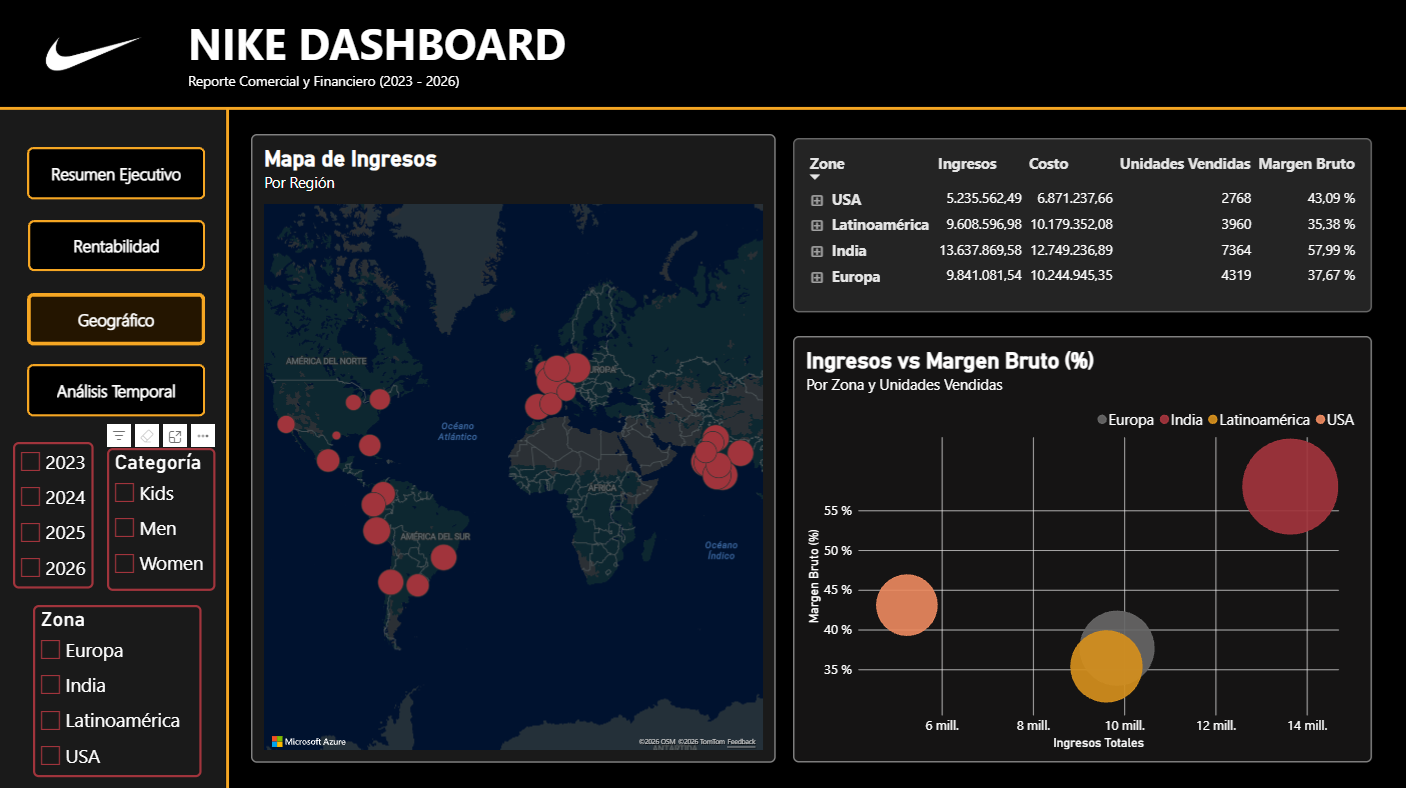

What the dashboard file says about the page in this screenshot:
{"tool":"powerbi","page":{"name":"Geográfico","canvas":[1920,1080],"ordinal":2},"visuals":[{"type":"shape","box":[0,0,1920,150],"z":0},{"type":"shape","box":[0,143,1920,12],"z":1000},{"type":"image","box":[0,11.7,256.7,125],"z":2000},{"type":"textbox","box":[256.7,20,641.7,108.3],"z":3000},{"type":"shape","box":[0,152,308,928],"z":4000},{"type":"shape","box":[303.8,147.5,12.5,931.2],"z":5000},{"type":"scatterChart","title":"Ingresos vs Margen Bruto (%)","fields":{"Series":["Dim_Ubicación.Zone"],"Size":["Medidas.Unidades_Vendidas"],"X":["Medidas.Ingresos_Totales"],"Y":["Medidas.Ganancia_bruta"]},"box":[1082,460,790,582],"z":6000},{"type":"pivotTable","fields":{"Rows":["Dim_Ubicación.Zone","Dim_Ubicación.Region"],"Values":["Medidas.Ingresos_Totales","Medidas.Costo_Total","Medidas.Unidades_Vendidas","Medidas.Ganancia_bruta"]},"box":[1082,190,790,238],"z":7000},{"type":"azureMap","title":"Mapa de Ingresos","fields":{"Category":["Dim_Ubicación.Region"],"Size":["Medidas.Ingresos_Totales"]},"box":[342,184,716,858],"z":8000},{"type":"shape","box":[38.3,301.7,241.7,70],"z":9000},{"type":"shape","box":[36.7,401.7,243.3,71.7],"z":10000},{"type":"shape","box":[36.7,498.3,243.3,71.7],"z":11000},{"type":"shape","box":[36.7,201.7,243.3,71.7],"z":12000},{"type":"slicer","fields":{"Values":["Dim_Tiempo.Fecha.Variación.Jerarquía de fechas.Año"]},"box":[18.3,605,110,200],"z":13000},{"type":"slicer","fields":{"Values":["Dim_Ubicación.Zone"]},"box":[45,826.7,230,235],"z":14000},{"type":"slicer","fields":{"Values":["Dim_Producto.Gender_Category"]},"box":[146.7,613.3,148,195],"z":15000}]}

Visuals, with their boxes in screenshot pixels (x1, y1, x2, y2), scaled from the page's 1920x1080 canvas onto the 1406x788 screenshot:
shape: box(0, 0, 1405, 109)
shape: box(0, 104, 1405, 113)
image: box(0, 9, 188, 100)
textbox: box(188, 15, 658, 94)
shape: box(0, 111, 226, 787)
shape: box(222, 108, 232, 787)
"Ingresos vs Margen Bruto (%)" scatterChart: box(792, 336, 1371, 760)
pivotTable - Dim_Ubicación.Zone x Dim_Ubicación.Region: box(792, 139, 1371, 312)
"Mapa de Ingresos" azureMap: box(250, 134, 775, 760)
shape: box(28, 220, 205, 271)
shape: box(27, 293, 205, 345)
shape: box(27, 364, 205, 416)
shape: box(27, 147, 205, 199)
slicer - Dim_Tiempo.Fecha.Variación.Jerarquía de fechas.Año: box(13, 441, 94, 587)
slicer - Dim_Ubicación.Zone: box(33, 603, 201, 775)
slicer - Dim_Producto.Gender_Category: box(107, 447, 216, 590)
